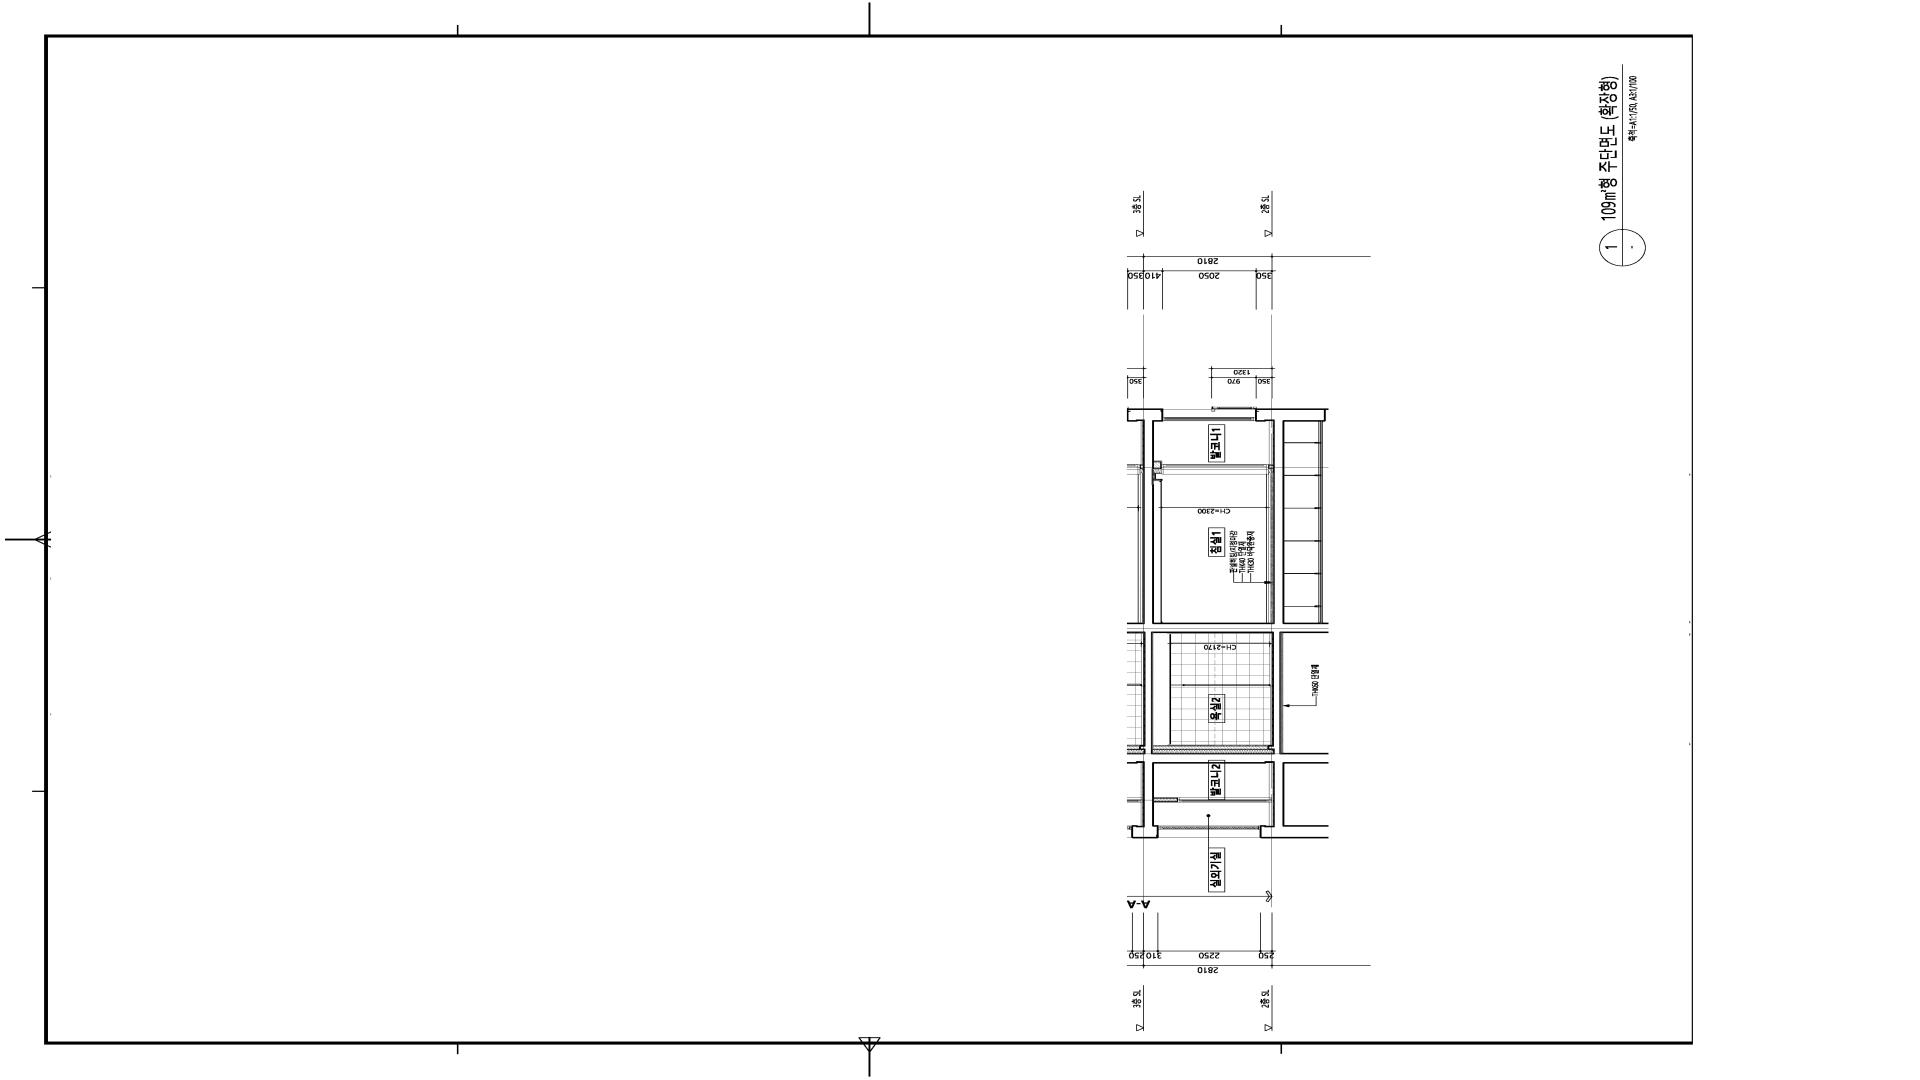wall: (1142, 409, 1284, 839), (1151, 633, 1273, 753), (1158, 825, 1259, 837), (1153, 745, 1269, 750), (1154, 798, 1178, 802), (1154, 462, 1162, 469), (1269, 464, 1273, 469)
window: (1163, 407, 1255, 421), (1162, 464, 1269, 475), (1178, 798, 1271, 802)
